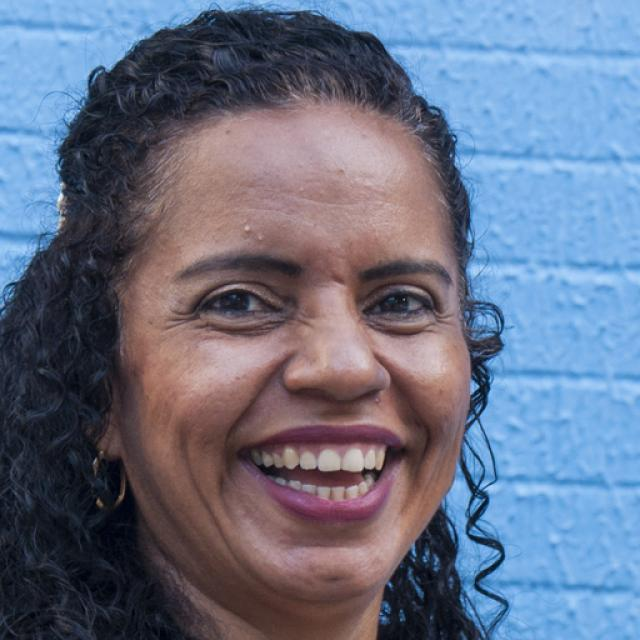Acne: (232, 218, 256, 240), (290, 180, 314, 198), (331, 161, 355, 179), (249, 229, 269, 246)
